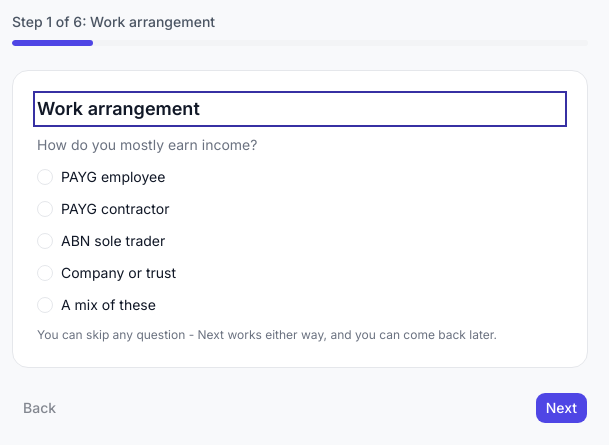
TaxProfileWizard › supports keyboard-only navigation: select an option, advance with Next, go Back
Tab from the top of the document into the first radio option.
Press Tab
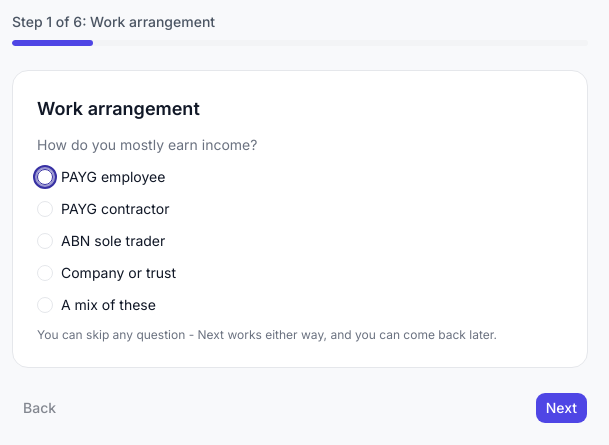
Select it via keyboard (Space), matching the native ARIA radio pattern.
Type keys " "
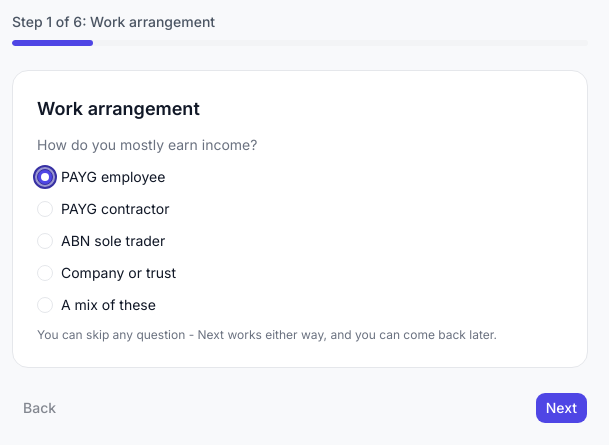
Now the radio button named "payg employee" is checked, box left=37, top=169, right=53, bottom=185
Press Tab
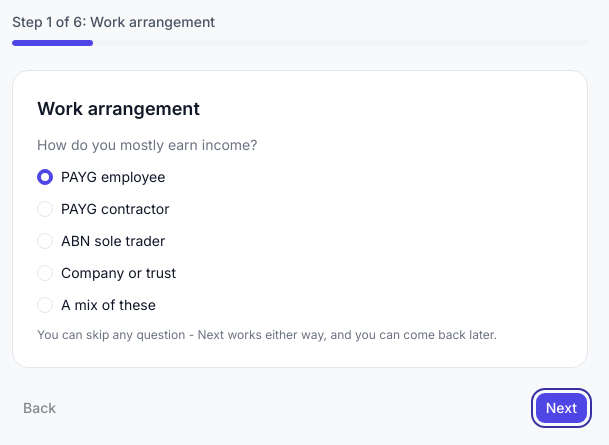
Press Enter
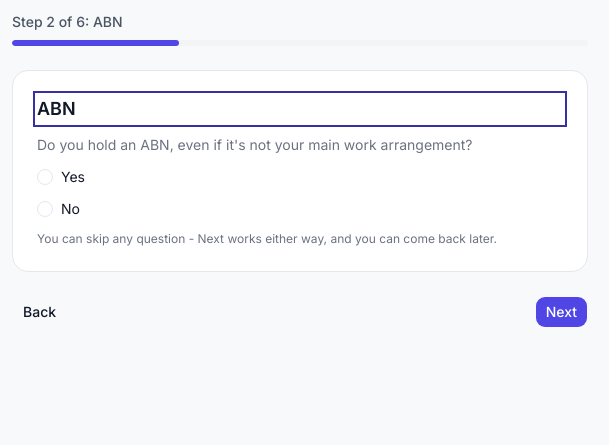
Now the text "Step 2 of 6: ABN" is shown, box left=12, top=13, right=123, bottom=30
Back is now enabled and returns to step 1, preserving the earlier answer.
Click the button "Back": click(40, 312) left=12, top=296, right=67, bottom=328
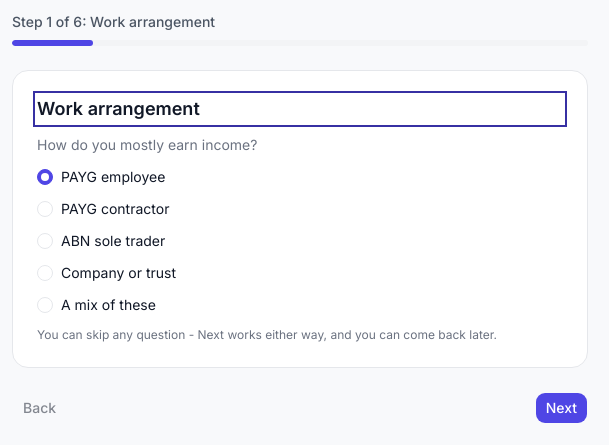
Now the text "Step 1 of 6: Work arrangement" is shown, box left=12, top=13, right=215, bottom=30
Now the radio button named "payg employee" is checked, box left=37, top=169, right=53, bottom=185
